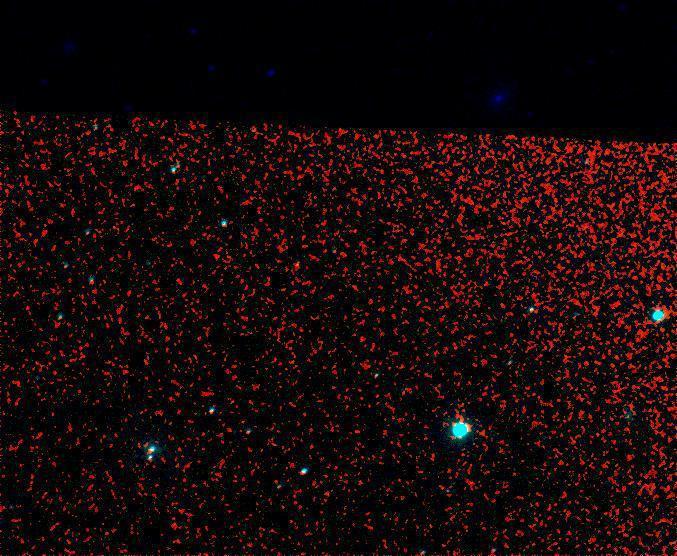star: (487, 287, 517, 317)
